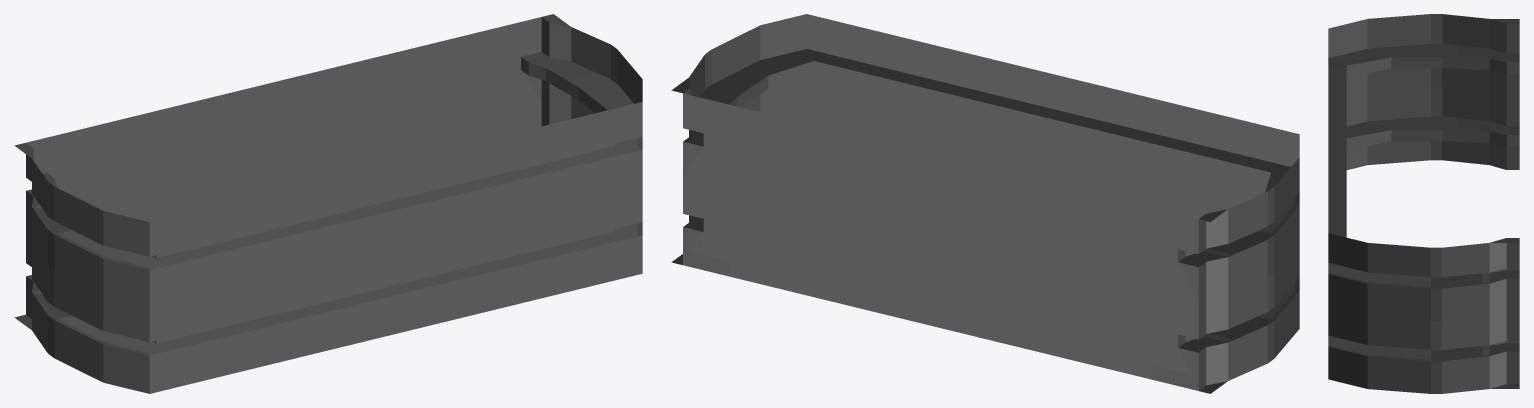
The picture shows the model from 3 angles, left to right: view 1: azimuth 30°, elevation 25°; view 2: azimuth 150°, elevation 25°; view 3: azimuth 270°, elevation 25°; orthographic projection. The views are drawn at different scales.
Parts seen in each view (by area): view 1: group_13; view 2: group_13; view 3: group_13.
Part boxes in pixels (<box>): group_13: <box>14,14,642,393</box>; group_13: <box>671,14,1299,393</box>; group_13: <box>1328,14,1519,393</box>.
Bounding box in the file's own units: 14034 × 4096 × 4849.
1 material, 1 textured.
